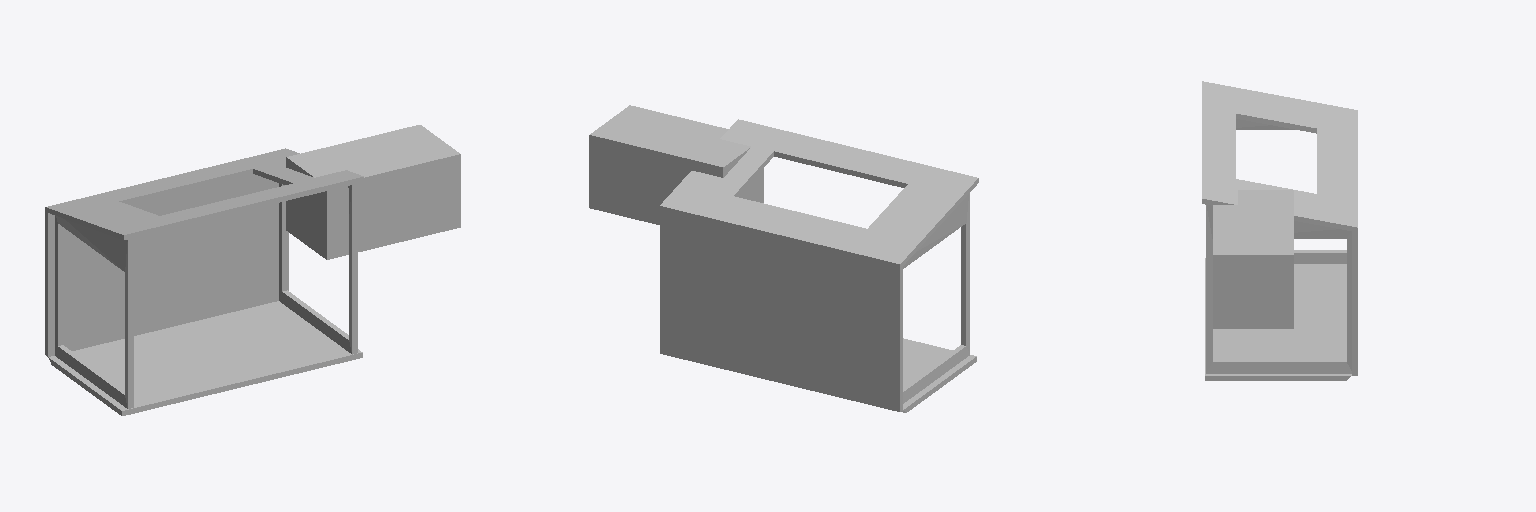
Rendered from bus_stop2.obj.
3 renders of one model, left to right at view 1: azimuth 30°, elevation 25°; view 2: azimuth 150°, elevation 25°; view 3: azimuth 270°, elevation 25°, orthographic.
Visible parts, largest first — view 1: Cube, Cube.001; view 2: Cube, Cube.001; view 3: Cube, Cube.001.
Boxes of the visible parts, x1=… form: Cube: x1=45, y1=148, x2=363, y2=415; Cube.001: x1=286, y1=125, x2=460, y2=259; Cube: x1=660, y1=119, x2=978, y2=412; Cube.001: x1=589, y1=105, x2=763, y2=224; Cube: x1=1202, y1=81, x2=1357, y2=380; Cube.001: x1=1213, y1=190, x2=1293, y2=328.
Bounding box in the file's own units: 12.78 × 6.5 × 5.06.